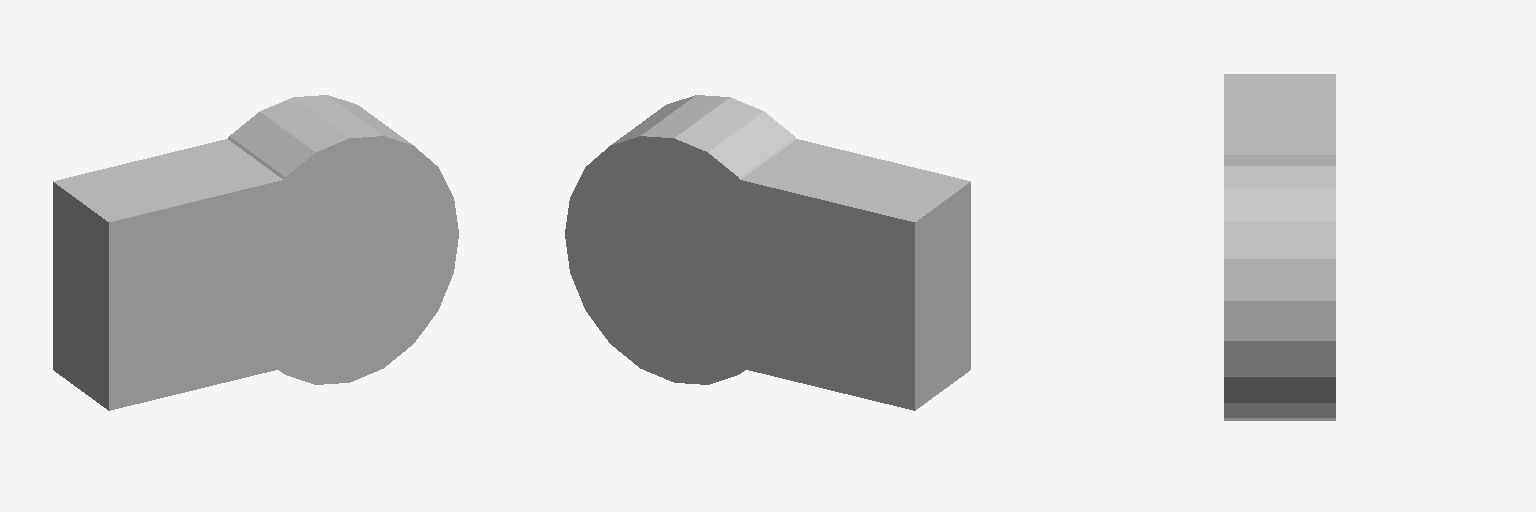
File: soporte_sensor.obj
The picture shows the model from 3 angles: view 1: azimuth 30°, elevation 25°; view 2: azimuth 150°, elevation 25°; view 3: azimuth 270°, elevation 25°; orthographic projection.
Parts seen in each view (by area): view 1: obj_0; view 2: obj_0; view 3: obj_0.
Boxes of the visible parts, x1=… form: obj_0: x1=53, y1=95, x2=458, y2=410; obj_0: x1=565, y1=95, x2=970, y2=410; obj_0: x1=1224, y1=74, x2=1335, y2=420.
Bounding box in the file's own units: 72 × 48 × 20.